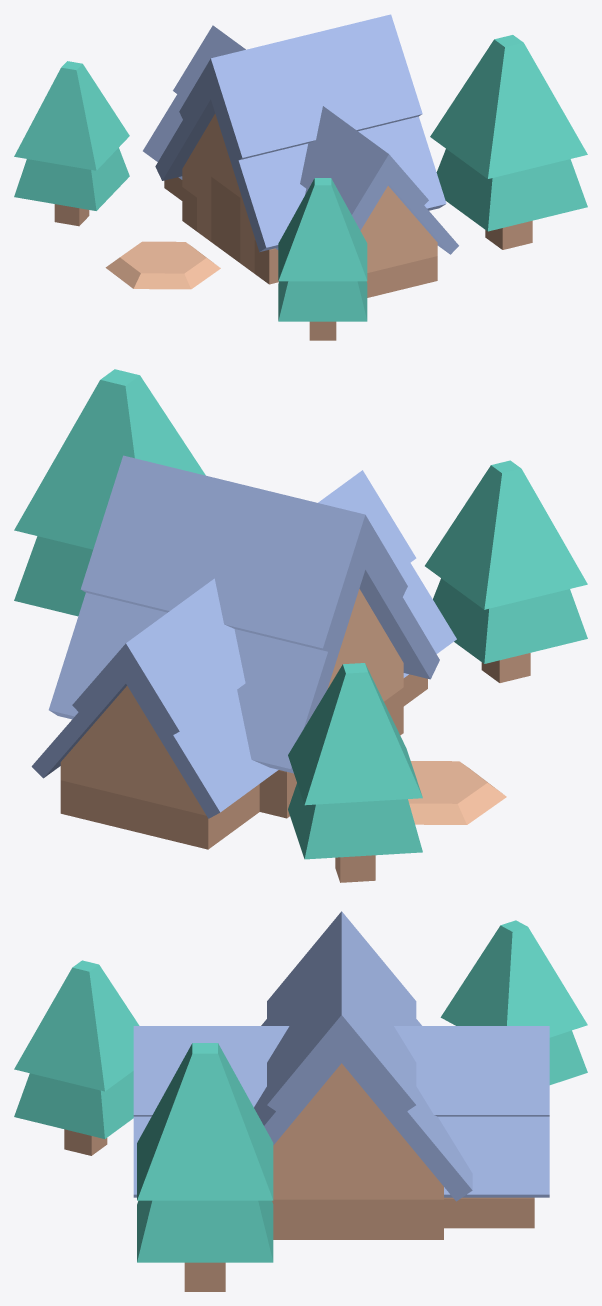
Rendered from Townhalllvl1.fbx.
3 views of the same model, one above another, from view 1: azimuth 30°, elevation 25°; view 2: azimuth 150°, elevation 25°; view 3: azimuth 270°, elevation 25° (orthographic). The views are drawn at different scales.
Visible parts, largest first — view 1: Building, Tree2, Tree1, Tree3, Path; view 2: Building, Tree3, Tree1, Tree2, Path; view 3: Building, Tree2, Tree3, Tree1.
Part boxes in pixels (x1,y1,x2,y2): Building: [143, 14, 458, 297]; Tree2: [430, 35, 587, 249]; Tree1: [14, 61, 129, 226]; Tree3: [278, 178, 367, 340]; Path: [105, 241, 220, 289]; Building: [31, 455, 456, 849]; Tree3: [425, 460, 587, 682]; Tree1: [288, 663, 422, 882]; Tree2: [14, 369, 205, 616]; Path: [408, 761, 506, 824]; Building: [133, 911, 549, 1239]; Tree2: [137, 1043, 273, 1291]; Tree3: [14, 960, 139, 1155]; Tree1: [440, 920, 587, 1084].
Bounding box in the file's own units: 81.93 × 38 × 84.13.
